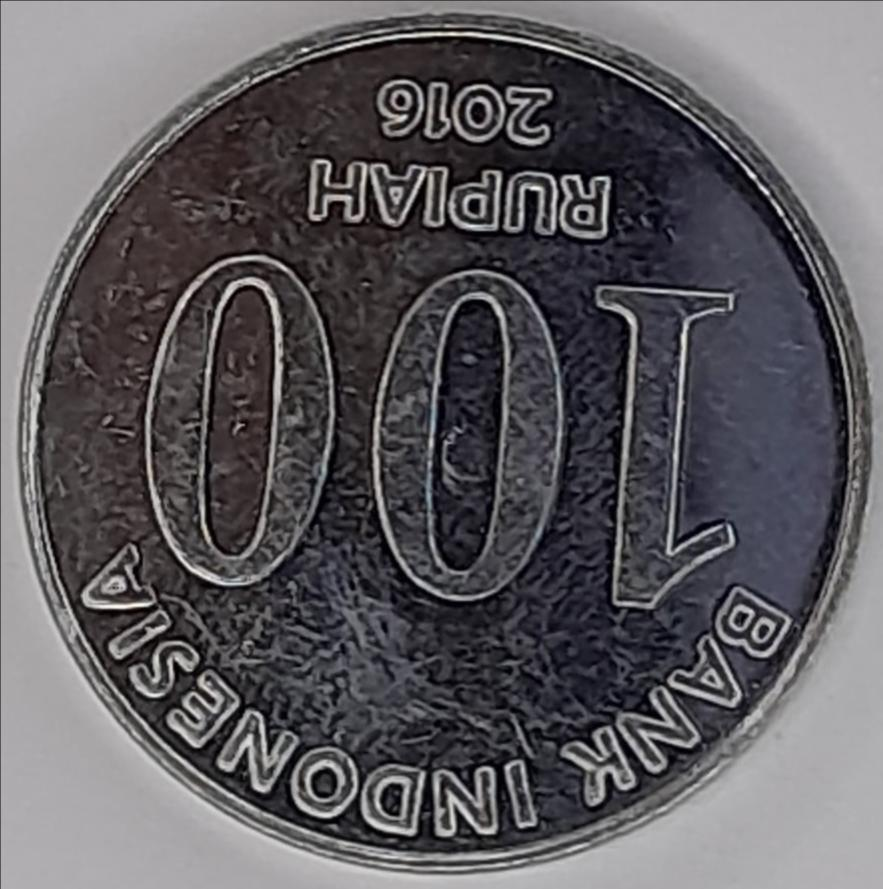coin_100_e2016: (11, 3, 878, 873)
